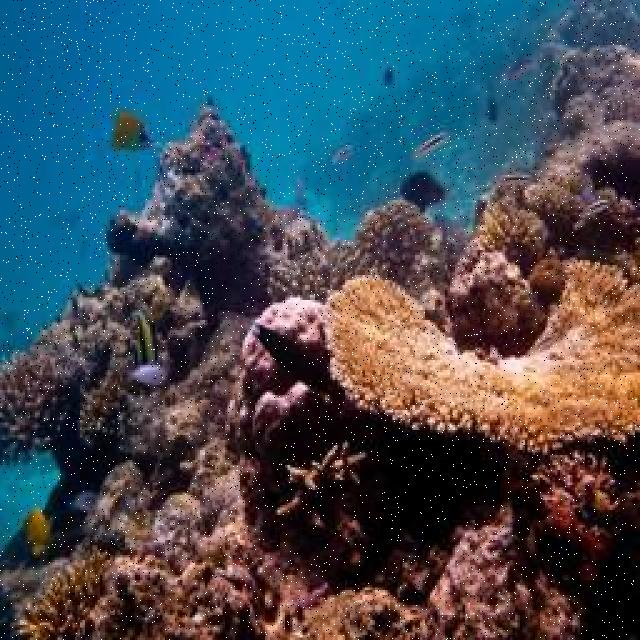fish: (400, 171, 452, 214), (123, 307, 158, 366), (110, 111, 157, 151), (124, 366, 170, 387), (419, 132, 456, 156), (577, 199, 612, 217)
reefs: (17, 295, 621, 638), (324, 257, 637, 454), (449, 40, 638, 345), (267, 197, 433, 298), (0, 340, 101, 462)
